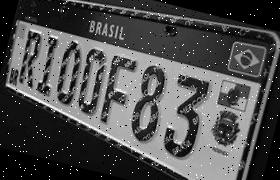placa_mercosul: (2, 0, 280, 180)
